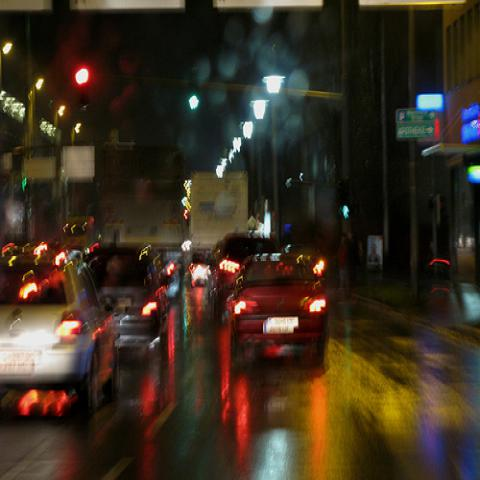car: (0, 241, 129, 424), (224, 248, 330, 370), (88, 240, 170, 368), (200, 232, 284, 318), (190, 246, 214, 286)
truck: (189, 169, 250, 260)
